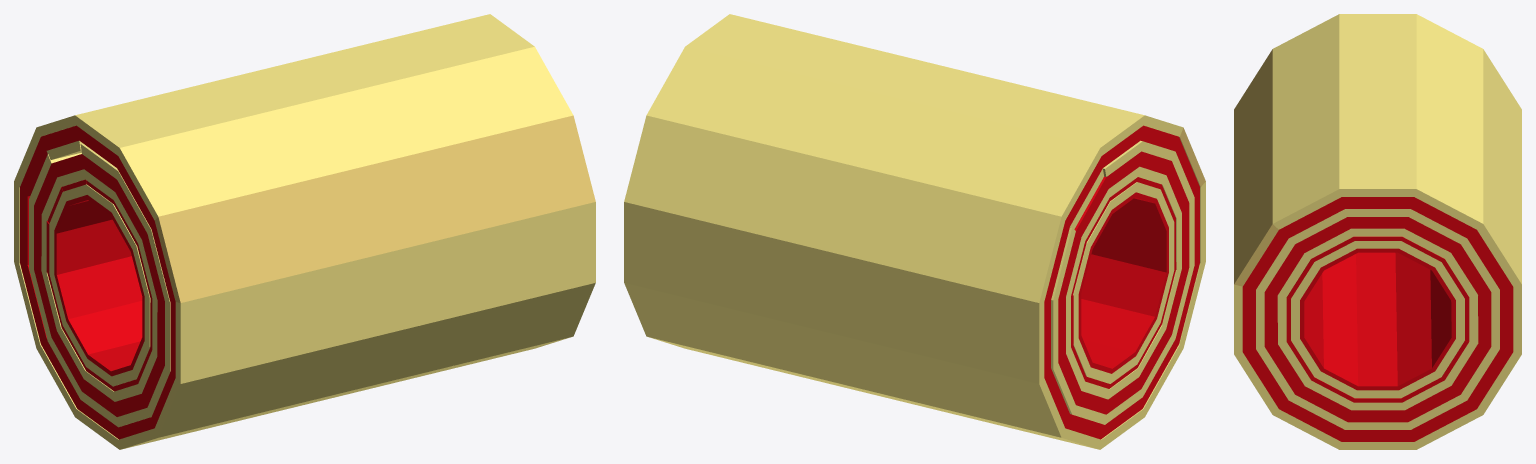
File: cms_detector.glb
The picture shows the model from 3 angles, left to right: view 1: azimuth 30°, elevation 25°; view 2: azimuth 150°, elevation 25°; view 3: azimuth 270°, elevation 25°; orthographic projection. The views are drawn at different scales.
Visible parts, largest first — view 1: Cylinder.305, Cylinder.313, Cylinder.297, Cylinder.321, Cylinder.289, Cylinder.346, Cylinder.369, Cylinder.338, Cylinder.329, Cylinder.377, Cylinder.330, Cylinder.383 (+4 smaller); view 2: Cylinder.384, Cylinder.376, Cylinder.281, Cylinder.353, Cylinder.289, Cylinder.314, Cylinder.306, Cylinder.322, Cylinder.345, Cylinder.298, Cylinder.330, Cylinder.278 (+2 smaller); view 3: Cylinder.289, Cylinder.281, Cylinder.297, Cylinder.305, Cylinder.384, Cylinder.330, Cylinder.338, Cylinder.322, Cylinder.346, Cylinder.314, Cylinder.312, Cylinder.375 (+65 smaller).
Boxes of the visible parts, bbox=[...] form: Cylinder.305: bbox=[155, 115, 595, 302]; Cylinder.313: bbox=[175, 202, 595, 383]; Cylinder.297: bbox=[118, 46, 573, 220]; Cylinder.321: bbox=[154, 283, 595, 437]; Cylinder.289: bbox=[75, 14, 534, 155]; Cylinder.346: bbox=[54, 256, 142, 320]; Cylinder.369: bbox=[54, 219, 131, 274]; Cylinder.338: bbox=[66, 301, 142, 357]; Cylinder.329: bbox=[118, 337, 571, 449]; Cylinder.377: bbox=[54, 201, 112, 233]; Cylinder.330: bbox=[87, 341, 140, 375]; Cylinder.383: bbox=[20, 137, 47, 196]; Cylinder.384: bbox=[624, 115, 1064, 302]; Cylinder.376: bbox=[624, 202, 1044, 383]; Cylinder.281: bbox=[646, 46, 1101, 220]; Cylinder.353: bbox=[624, 283, 1065, 437]; Cylinder.289: bbox=[685, 14, 1144, 155]; Cylinder.314: bbox=[1081, 254, 1168, 318]; Cylinder.306: bbox=[1091, 217, 1168, 272]; Cylinder.322: bbox=[1081, 299, 1156, 355]; Cylinder.345: bbox=[648, 337, 1101, 449]; Cylinder.298: bbox=[1110, 198, 1168, 230]; Cylinder.330: bbox=[1083, 339, 1135, 373]; Cylinder.278: bbox=[1074, 176, 1108, 236]; Cylinder.289: bbox=[1339, 14, 1416, 196]; Cylinder.281: bbox=[1414, 14, 1483, 229]; Cylinder.297: bbox=[1272, 14, 1341, 229]; Cylinder.305: bbox=[1234, 49, 1278, 286]; Cylinder.384: bbox=[1477, 49, 1521, 286]; Cylinder.330: bbox=[1356, 252, 1398, 390]; Cylinder.338: bbox=[1395, 252, 1434, 389]; Cylinder.322: bbox=[1321, 254, 1358, 389]; Cylinder.346: bbox=[1430, 270, 1455, 370]; Cylinder.314: bbox=[1300, 273, 1323, 370]; Cylinder.312: bbox=[1242, 287, 1255, 352]; Cylinder.375: bbox=[1500, 287, 1513, 352].
Size of the model in its own units: 275 by 191 by 191.
